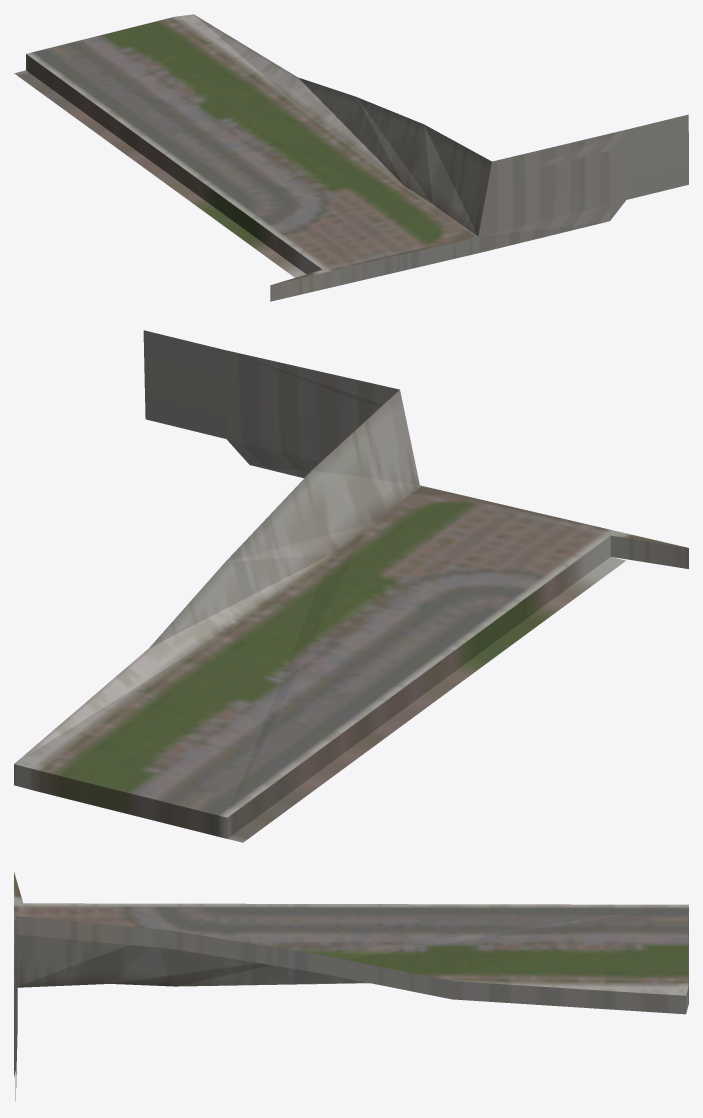
The model's file is lodadssfse49.obj.
3 renders of one model, top to bottom at view 1: azimuth 30°, elevation 25°; view 2: azimuth 150°, elevation 25°; view 3: azimuth 270°, elevation 25°, orthographic. The views are drawn at different scales.
Parts seen in each view (by area): view 1: LODadsSFSE49; view 2: LODadsSFSE49; view 3: LODadsSFSE49.
Part boxes in pixels (x1,y1,x2,y2): LODadsSFSE49: (14, 14, 688, 301); LODadsSFSE49: (14, 330, 688, 842); LODadsSFSE49: (14, 872, 688, 1100).
Bounding box in the file's own units: 100 × 19.99 × 124.
1 material, 1 textured.
